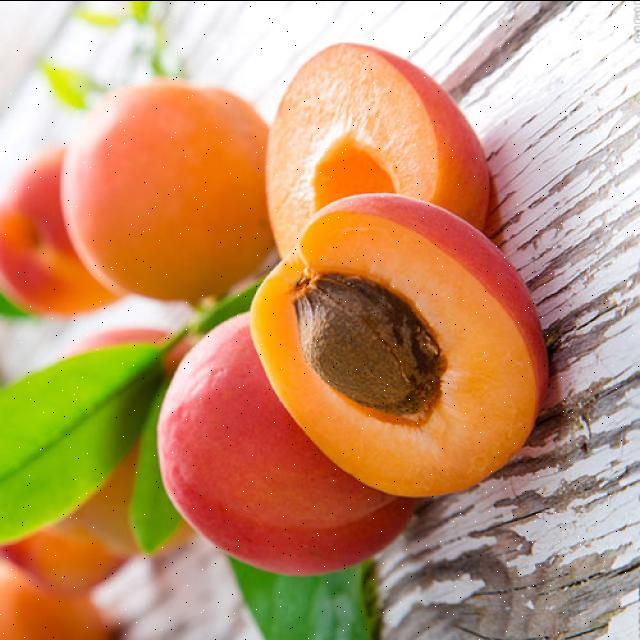Cekirdek: (294, 268, 444, 417)
Kayisi: (252, 193, 546, 495), (159, 312, 413, 573), (268, 44, 491, 255), (62, 81, 273, 300)
Yaprak: (0, 342, 166, 542)
